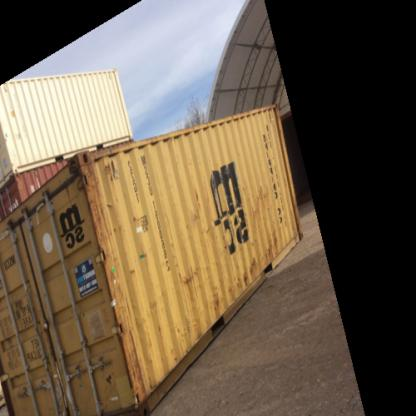Damage: (105, 304, 150, 399), (181, 183, 216, 225), (227, 252, 263, 290), (69, 155, 98, 196), (8, 285, 32, 332), (249, 173, 275, 211), (167, 257, 199, 285), (98, 156, 130, 178), (208, 287, 223, 318)
